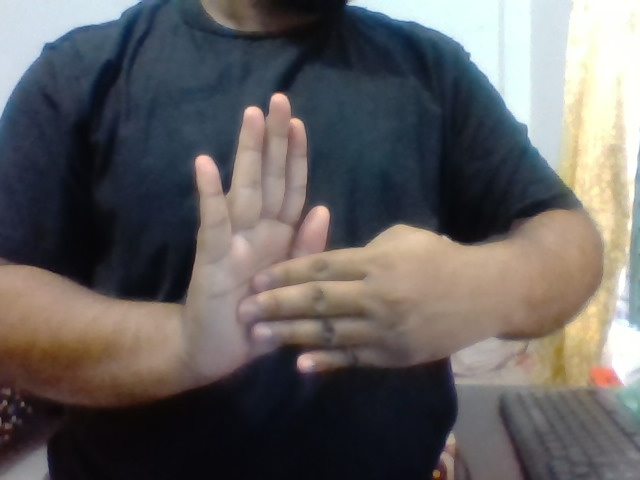H: (180, 85, 455, 394)
